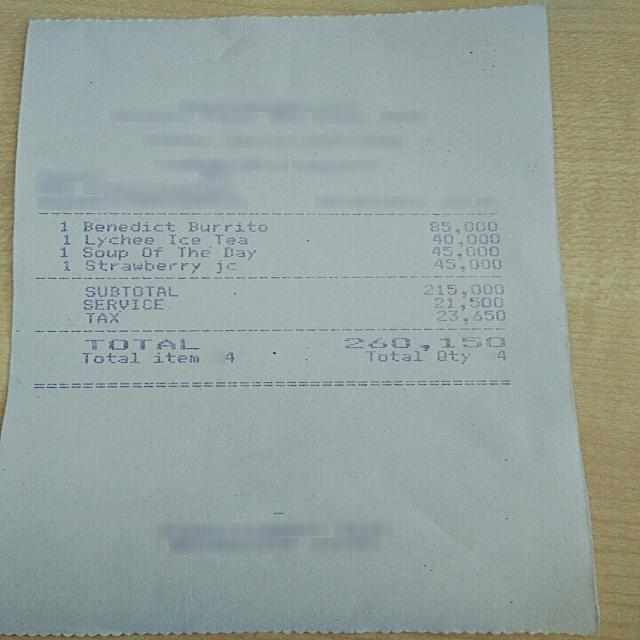kertas: (0, 5, 598, 640)
